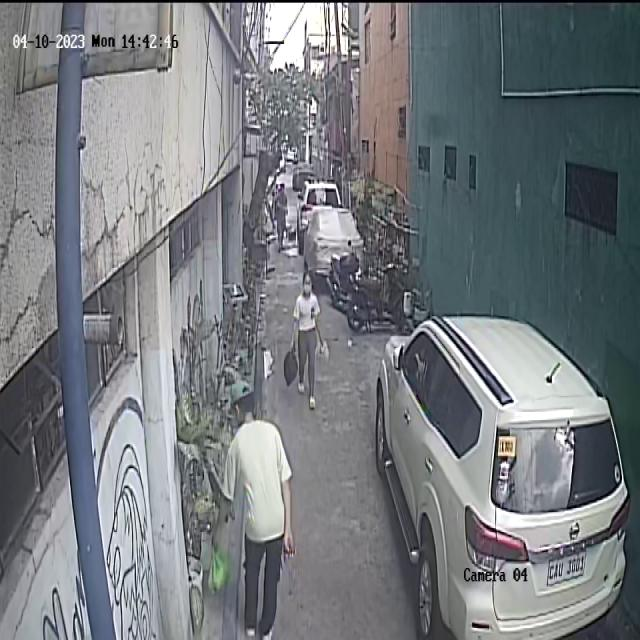human: (209, 380, 296, 640), (283, 270, 330, 410)
trash: (207, 526, 234, 600), (281, 342, 300, 390), (316, 330, 330, 364)
